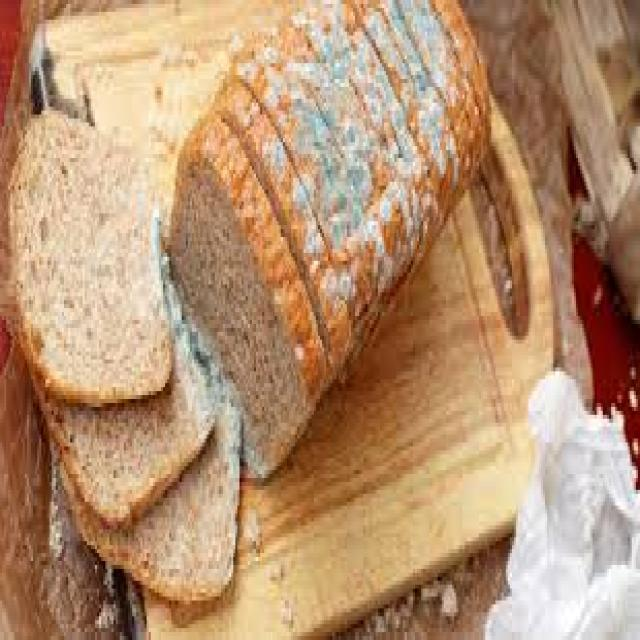food_waste: (10, 0, 489, 597)
